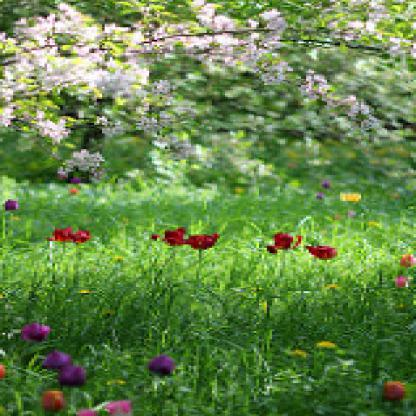TULIP: (17, 140, 409, 407)
